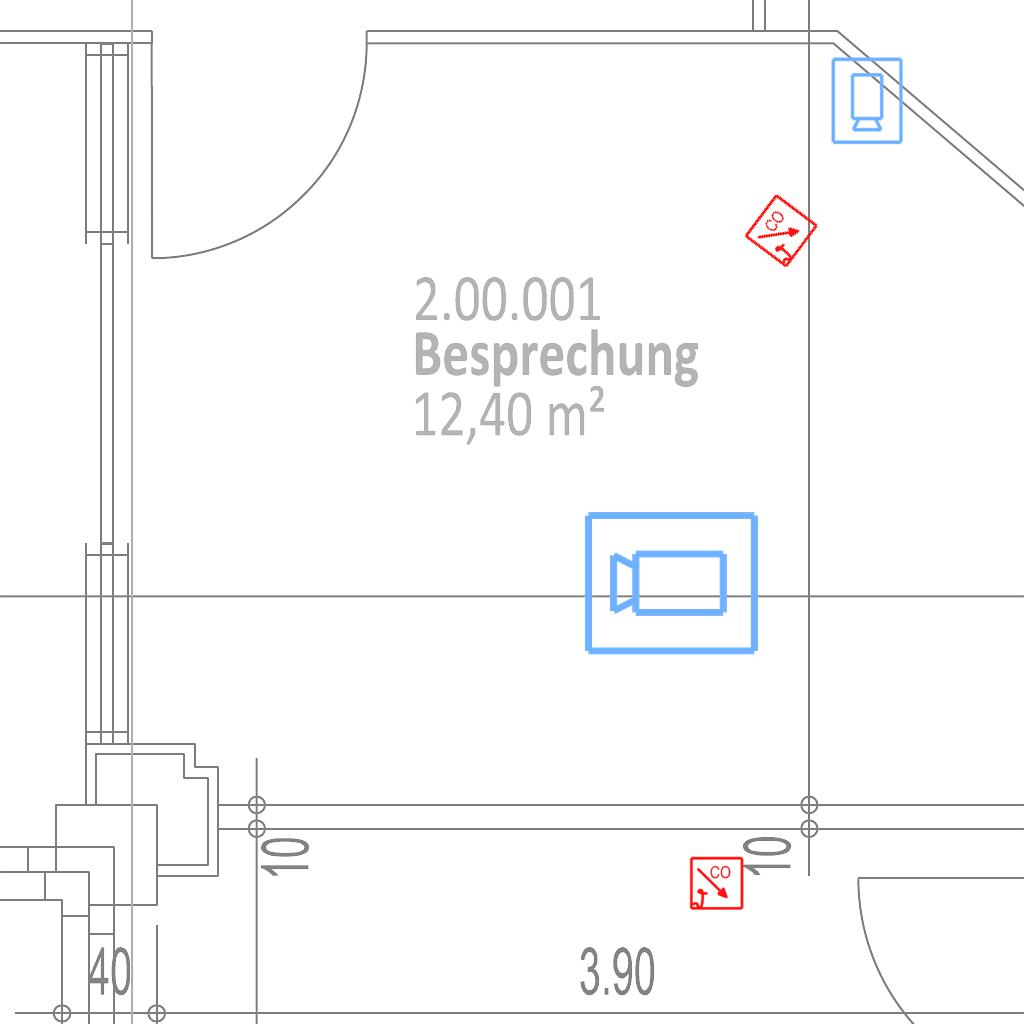KFO_Kamera_mit_Festobjektiv: (581, 505, 763, 659), (828, 55, 905, 146)
ROA_Rauchmelder_optisch_mit_Signalgeber_(Sockelsirene): (742, 191, 822, 271), (689, 856, 745, 912)
